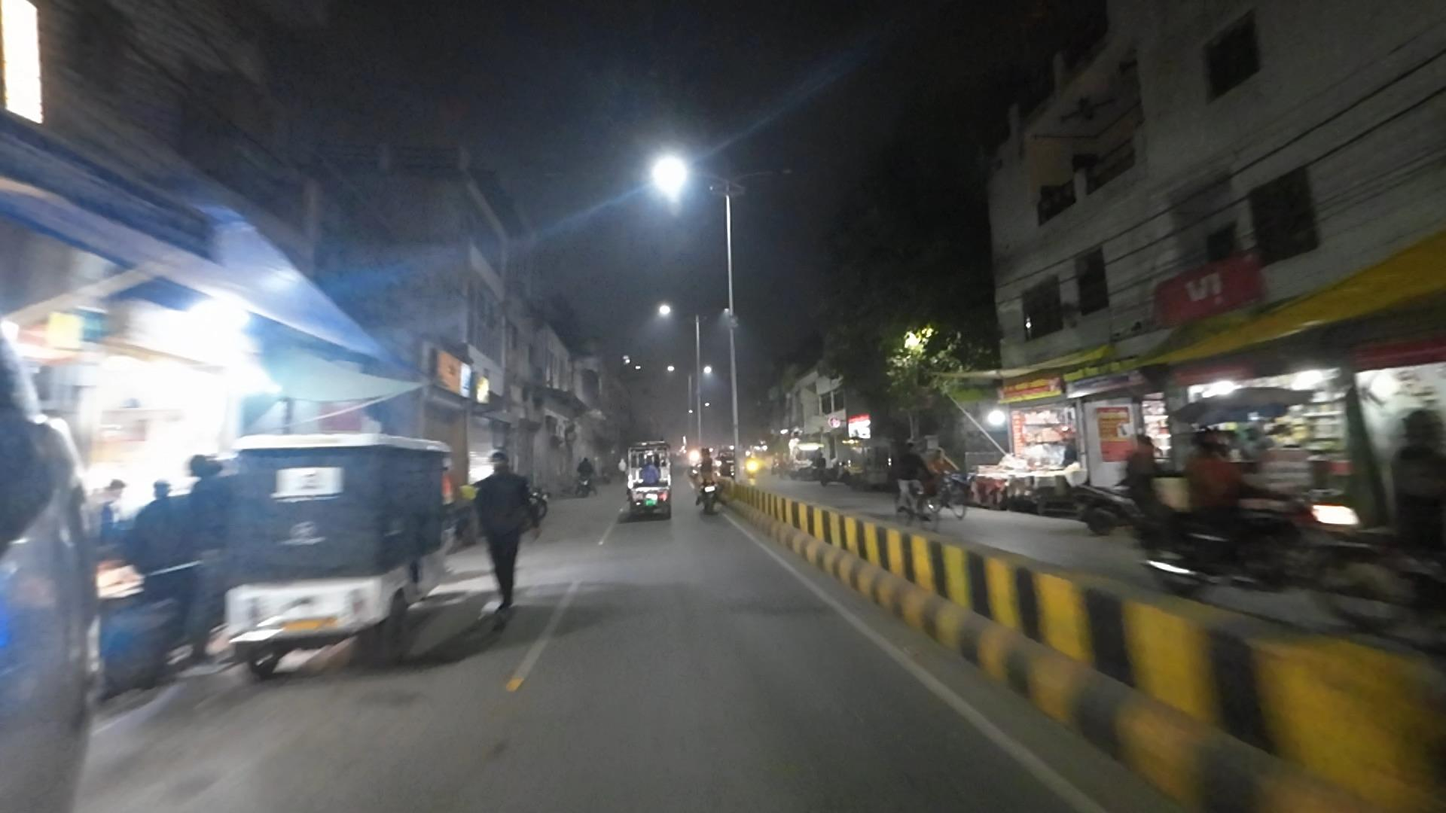streetlight: (745, 165, 794, 182)
